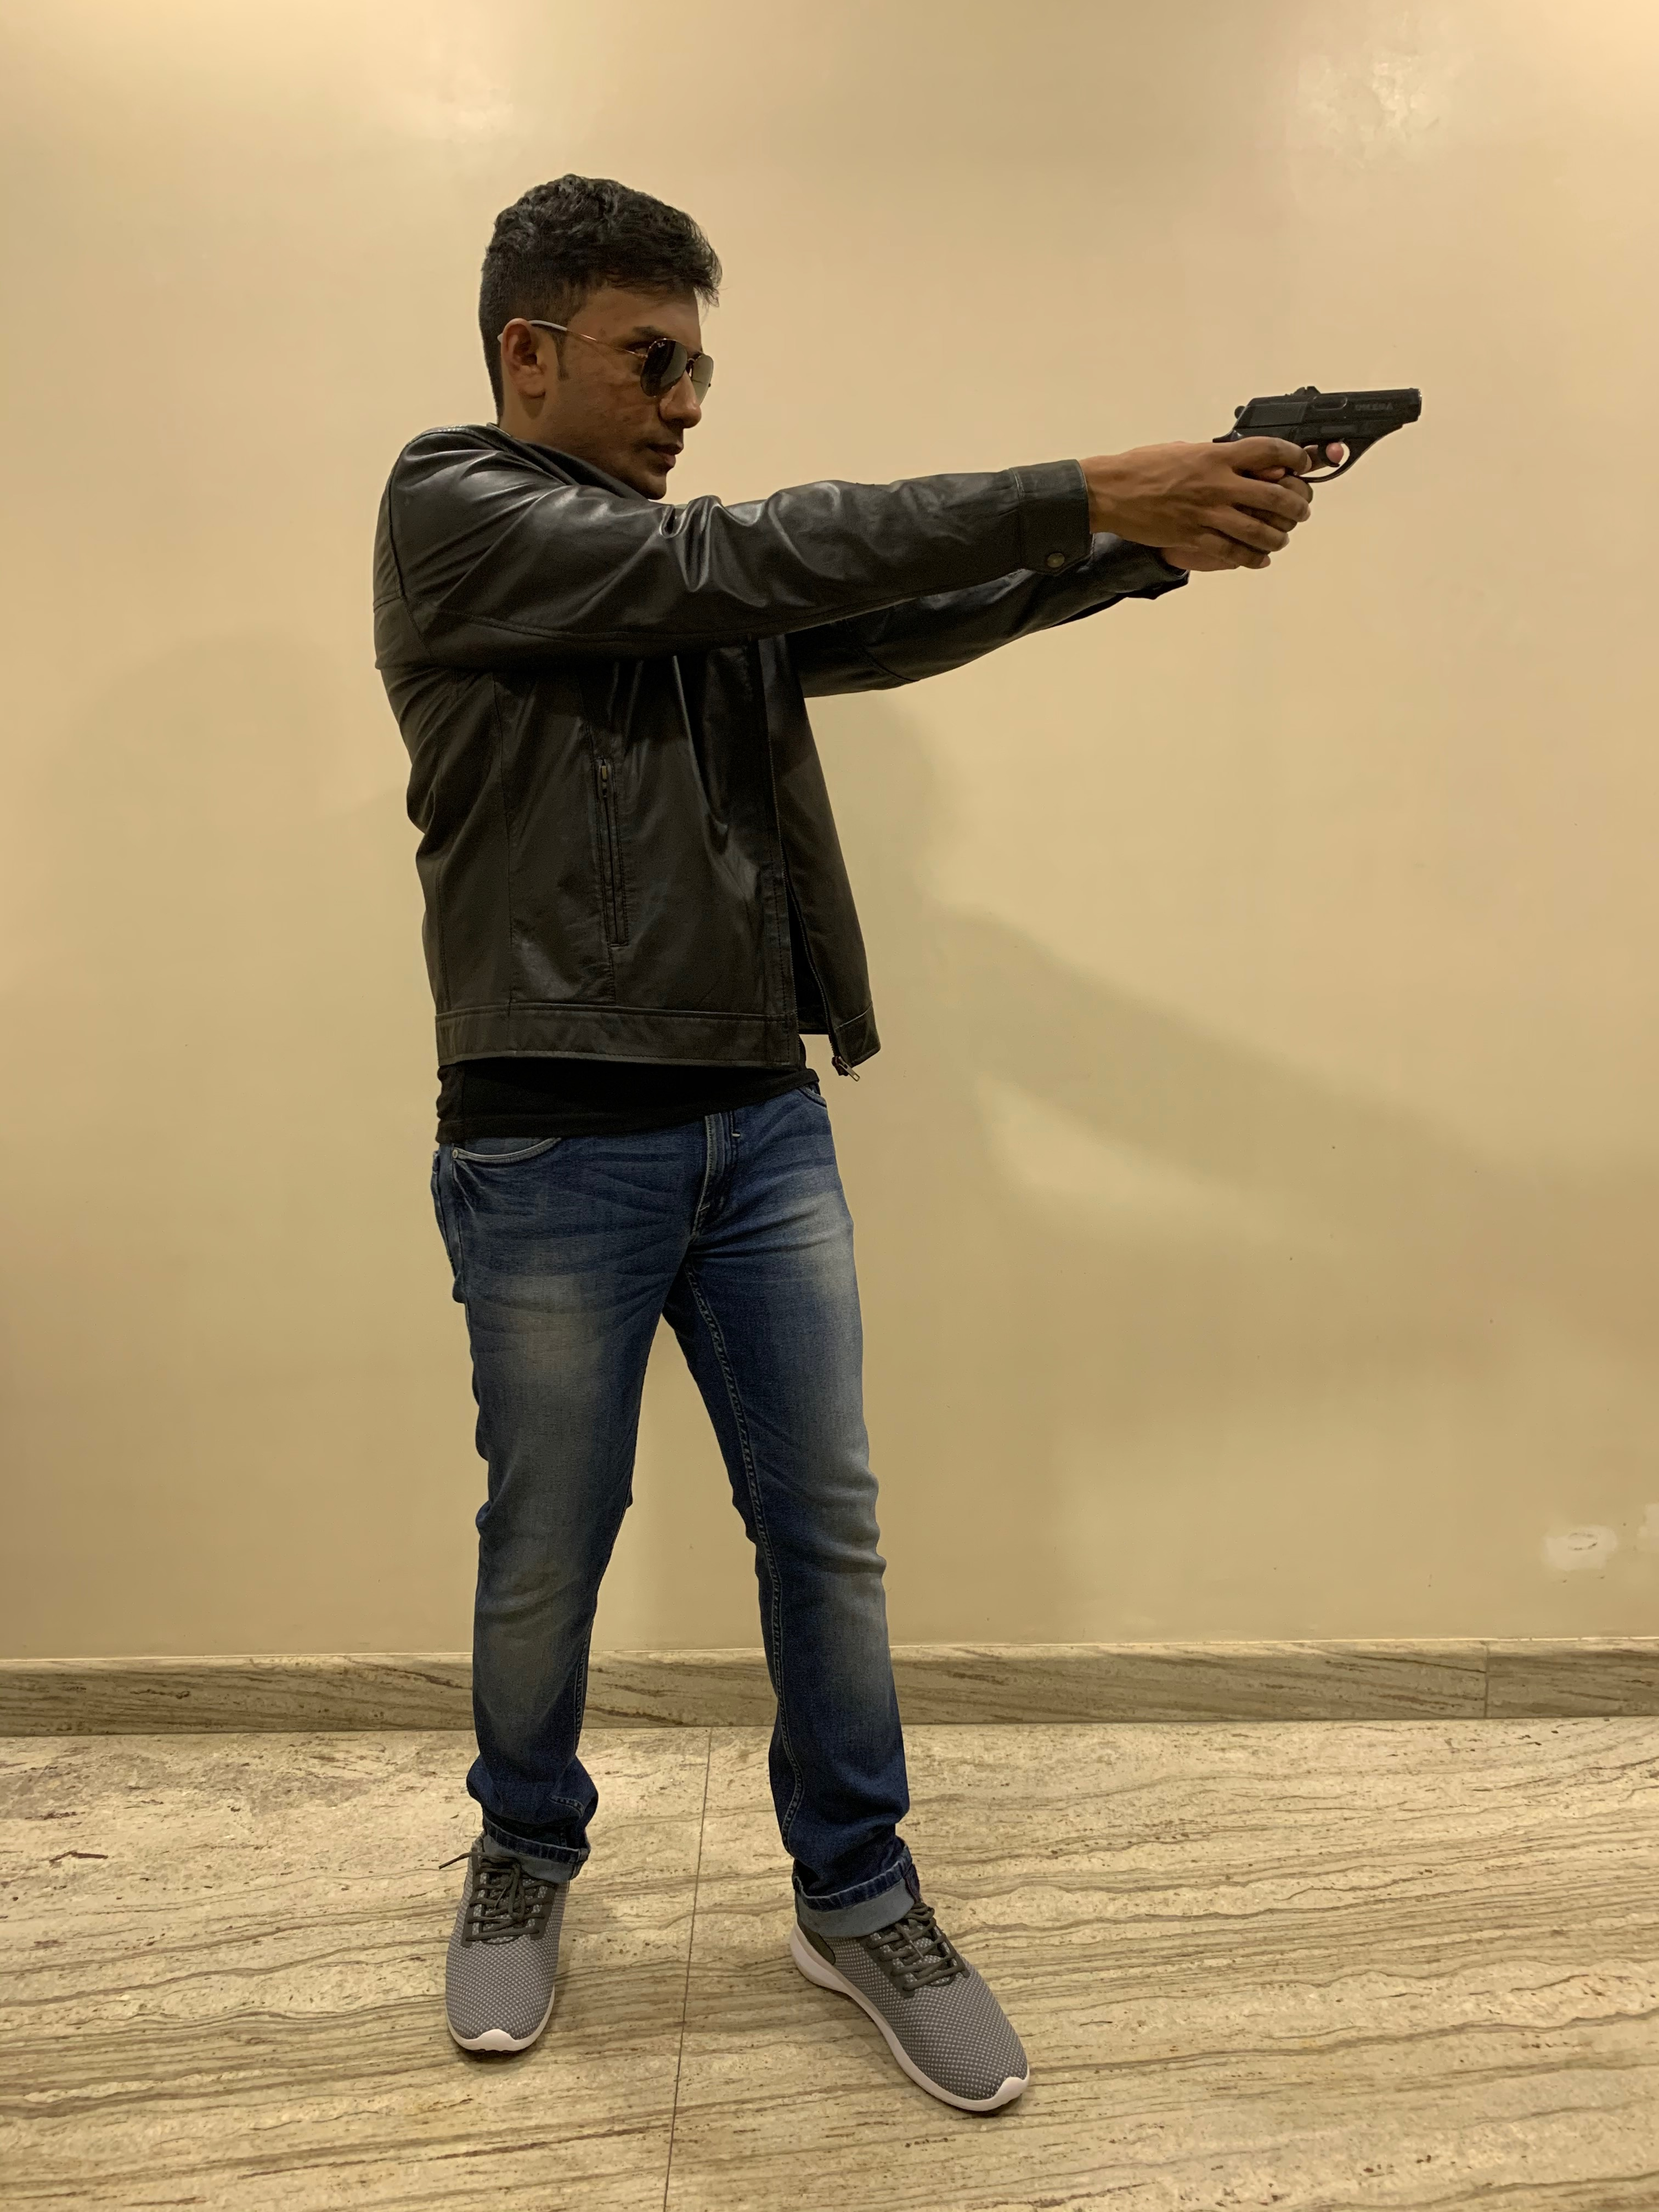gun: (1216, 383, 1427, 488)
